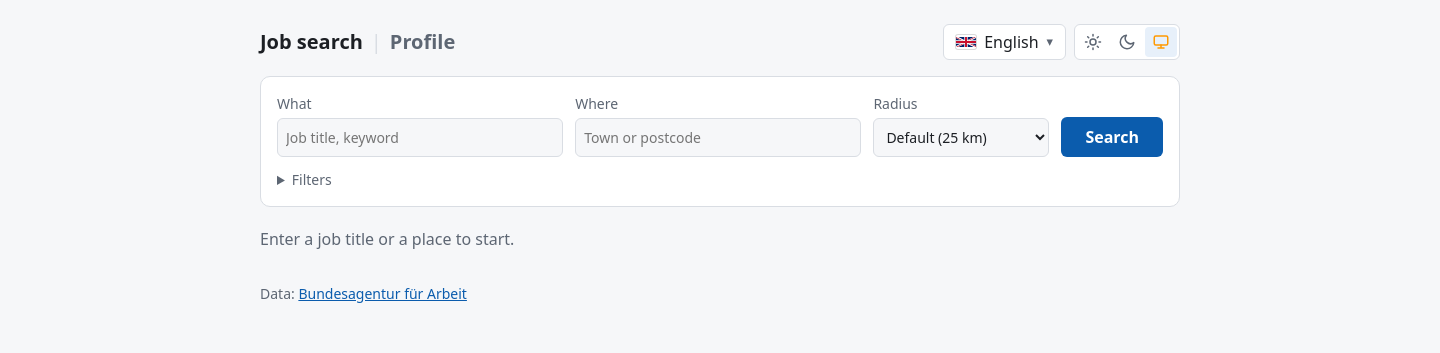
Scenario: search page › language list: flags with names, keyboard, Escape and click outside
Check: the icon with class "flag" is shown, box [956,35,976,49]
Press ArrowDown in the button with aria-label "Language: English", box [943,24,1066,60]
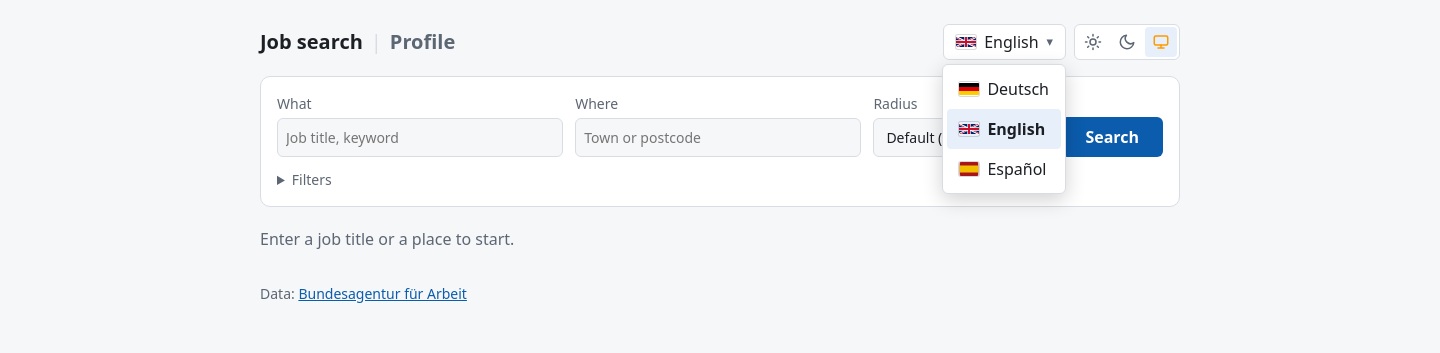
Check: the options read "Deutsch", "English", "Español", in this order, box [959,78,1049,100]; [947,109,1061,149]; [959,158,1046,180]
Press ArrowDown in the list named "Language", box [942,64,1066,194]
Press Enter in the list named "Language", box [942,64,1066,194]
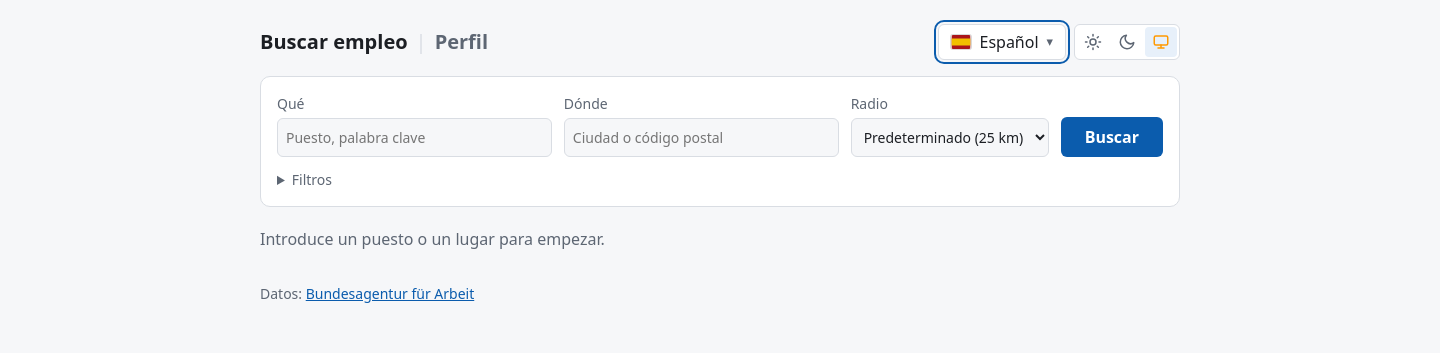
Check: the button with aria-label "Idioma: Español" is shown
Check: the list is gone
Click the button with aria-label "Idioma: Español".
click(1002, 42)  # box [938,24,1066,60]
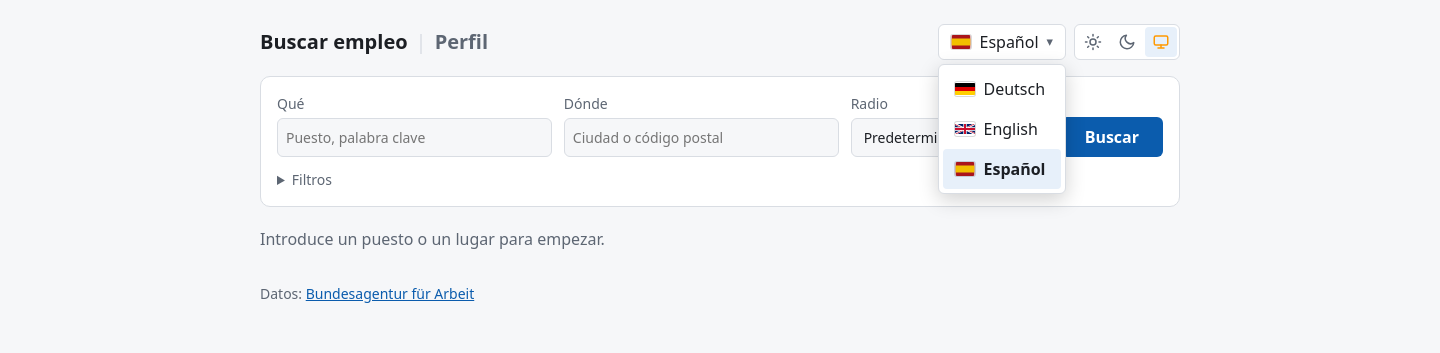
Press Escape in the list, box [938,64,1066,194]
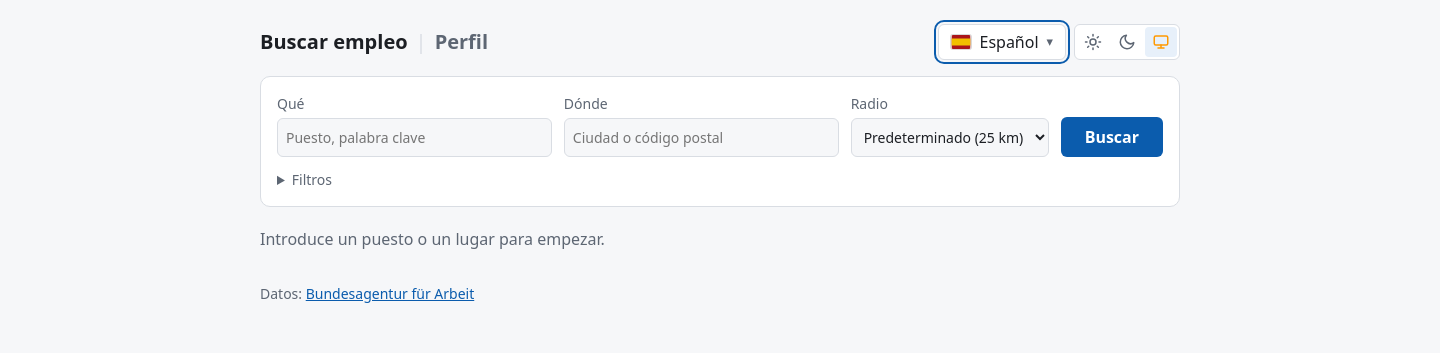
Check: the list is gone
Click the button with aria-label "Idioma: Español".
click(1002, 42)  # box [938,24,1066,60]
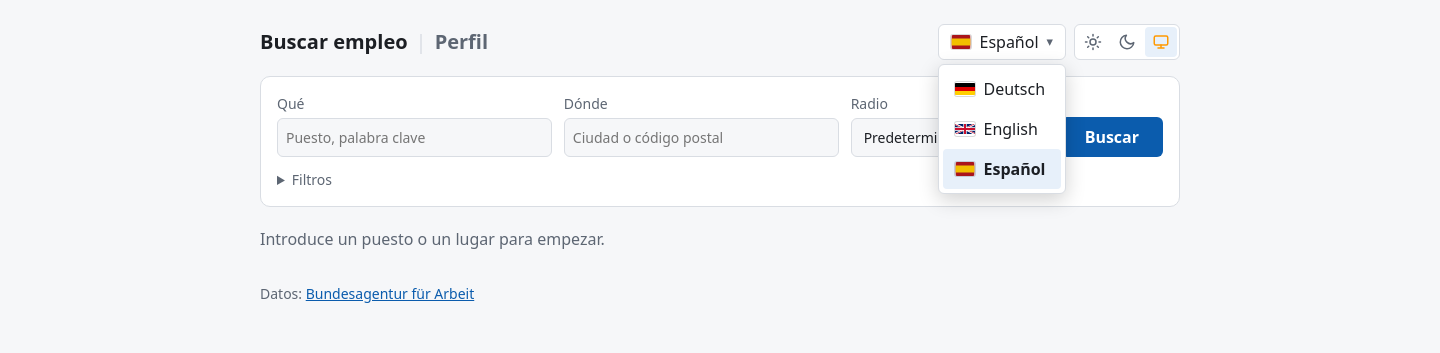
Press the mouse on the element that starts with "Buscar empleo" at x=720, y=168, box [0,0,1439,336]
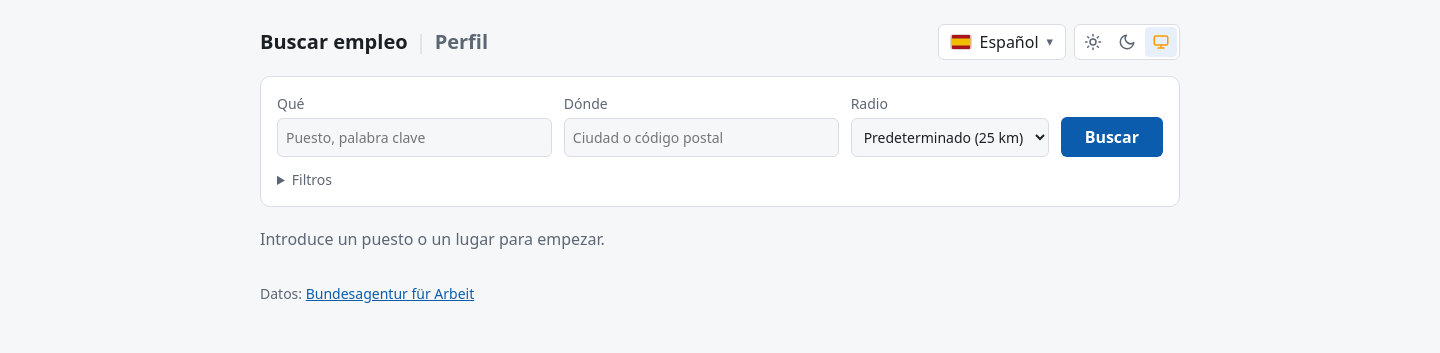
Check: the list is gone
